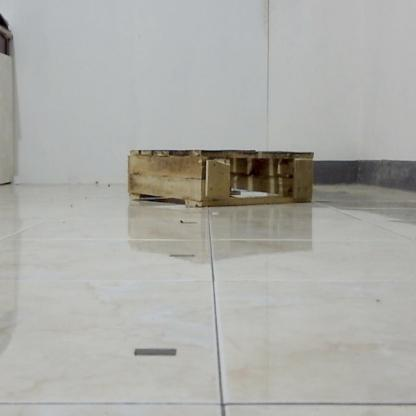Wooden-Pallet: (126, 144, 317, 211)
